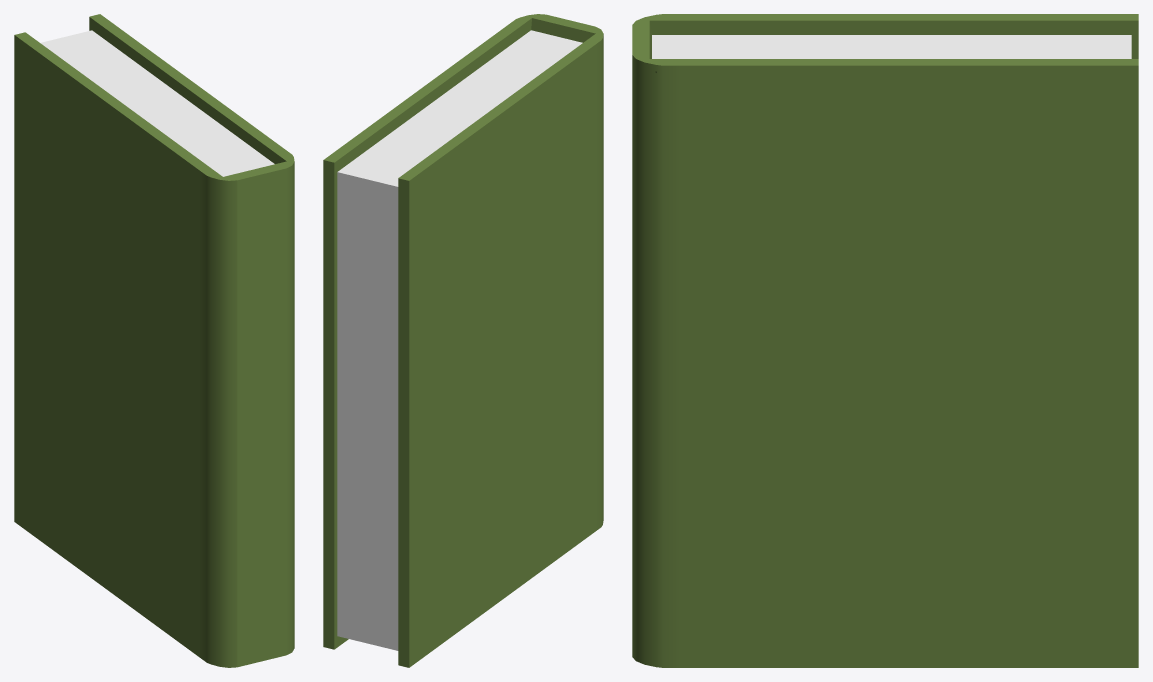
The model's file is LibroVerde.fbx.
The picture shows the model from 3 angles, left to right: view 1: azimuth 30°, elevation 25°; view 2: azimuth 150°, elevation 25°; view 3: azimuth 270°, elevation 25°; orthographic projection. The views are drawn at different scales.
Visible parts, largest first — view 1: libro; view 2: libro; view 3: libro.
Boxes of the visible parts, left/top/right/bottom form: libro: left=14, top=14, right=294, bottom=667; libro: left=323, top=14, right=603, bottom=667; libro: left=632, top=14, right=1138, bottom=667.
Size of the model in its own units: 4.64 by 25.17 by 19.18.
